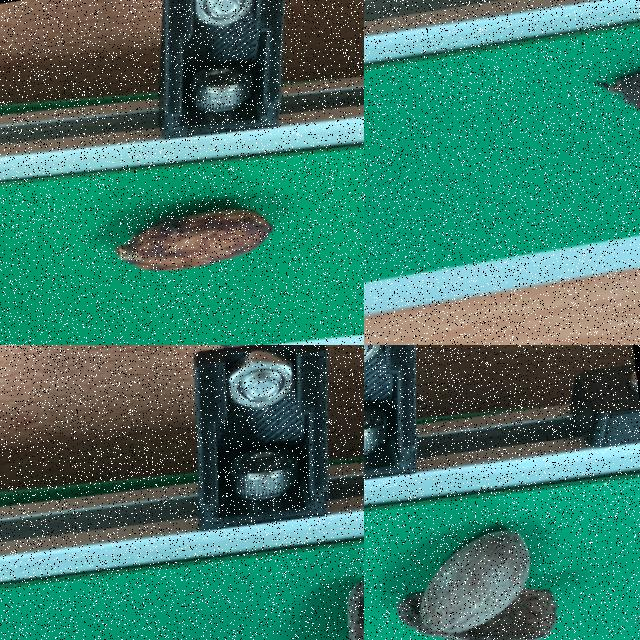Agglomerated_cocoabeans: (364, 480, 631, 639), (239, 519, 363, 639)
Fine_cocoabeans: (20, 147, 363, 333)
Flat_cocoabeans: (524, 2, 639, 198)
